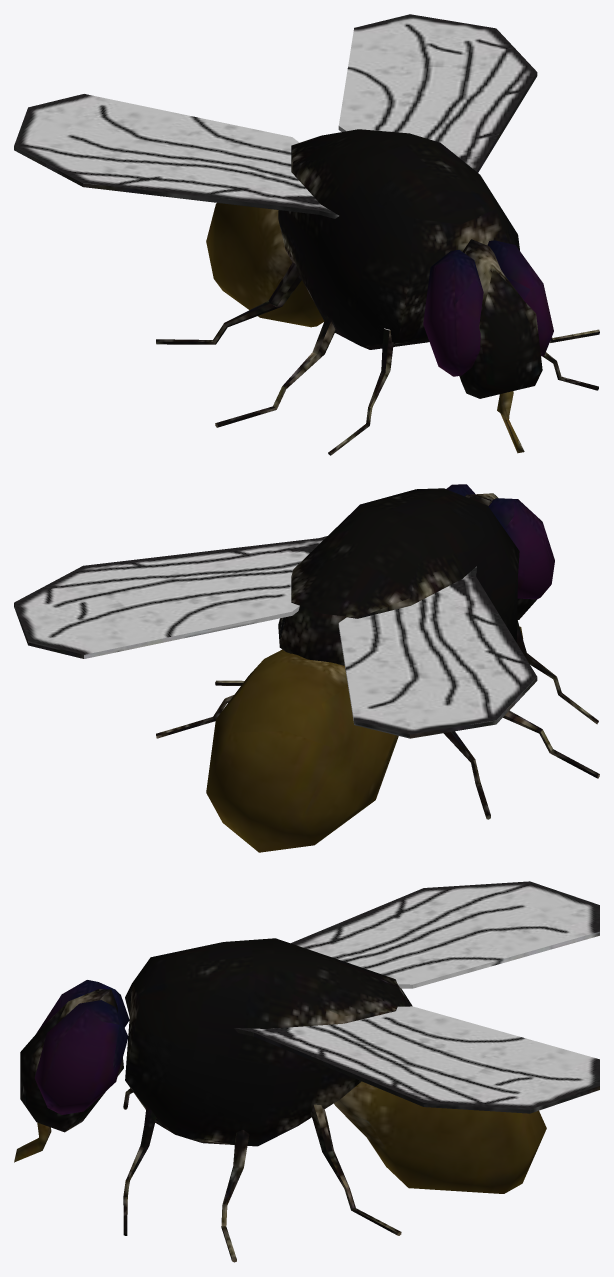
File: sketchfab-housefly.glb
3 renders of one model, top to bottom at view 1: azimuth 30°, elevation 25°; view 2: azimuth 150°, elevation 25°; view 3: azimuth 270°, elevation 25°, orthographic. The views are drawn at different scales.
Parts seen in each view (by area): view 1: Fly.001_0; view 2: Fly.001_0; view 3: Fly.001_0.
Part boxes in pixels (box(x1,y1,x2,y2)): Fly.001_0: box(14, 14, 599, 455); Fly.001_0: box(14, 484, 599, 852); Fly.001_0: box(14, 881, 599, 1262).
Bounding box in the file's own units: 0.0146 × 0.00709 × 0.0158.
Materials: 1 (1 with a texture image).
